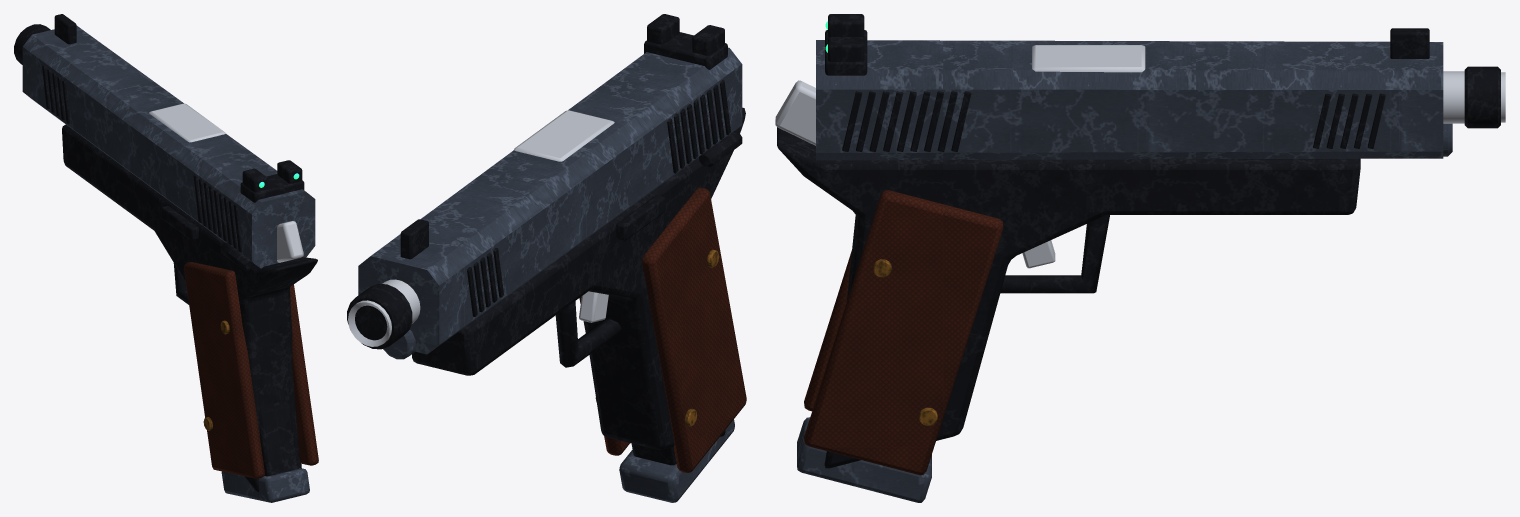
3 renders of one model, left to right at view 1: azimuth 30°, elevation 25°; view 2: azimuth 150°, elevation 25°; view 3: azimuth 270°, elevation 25°, orthographic. The views are drawn at different scales.
Visible parts, largest first — view 1: Receiver, Slide, Magazine; view 2: Slide, Receiver, Magazine, Trigger; view 3: Receiver, Slide, Magazine.
Boxes of the visible parts, <box> form: Receiver: <box>17,34,318,492</box>; Slide: <box>14,14,315,268</box>; Magazine: <box>221,400,309,502</box>; Slide: <box>347,14,742,354</box>; Receiver: <box>348,107,746,472</box>; Magazine: <box>619,419,734,502</box>; Trigger: <box>579,291,608,322</box>; Receiver: <box>775,71,1505,475</box>; Slide: <box>816,14,1500,160</box>; Magazine: <box>797,417,931,502</box>.
Size of the model in its own units: 0.0375 by 0.1683 by 0.2408.
Materials: 7 (4 with a texture image).
